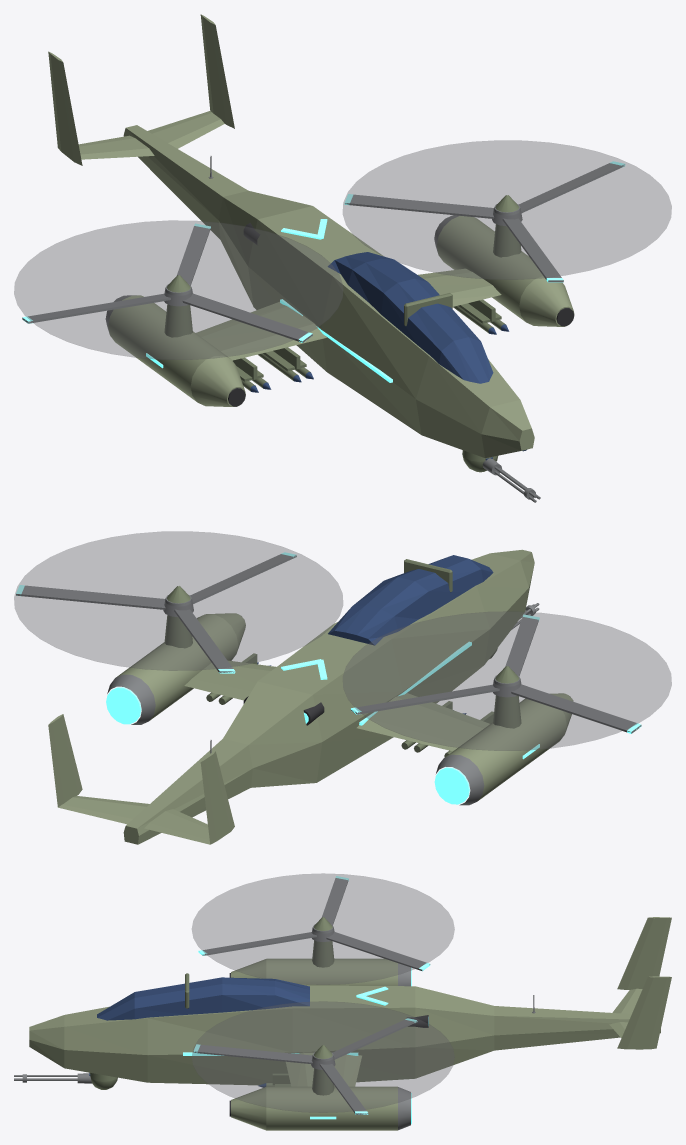
File: gunship_blue.glb
3 views of the same model, one above another, from view 1: azimuth 30°, elevation 25°; view 2: azimuth 150°, elevation 25°; view 3: azimuth 270°, elevation 25° (orthographic). The views are drawn at different scales.
Parts seen in each view (by area): view 1: body, rotor_r, rotor_l; view 2: body, rotor_r, rotor_l; view 3: body, rotor_l, rotor_r, gun.
Boxes of the visible parts, left/top/right/bottom form: body: left=48, top=14, right=574, bottom=458; rotor_r: left=14, top=220, right=342, bottom=359; rotor_l: left=343, top=140, right=671, bottom=282; body: left=48, top=549, right=573, bottom=844; rotor_r: left=343, top=611, right=671, bottom=750; rotor_l: left=14, top=531, right=342, bottom=673; body: left=29, top=917, right=671, bottom=1130; rotor_l: left=192, top=1001, right=454, bottom=1114; rotor_r: left=192, top=873, right=454, bottom=984; gun: left=14, top=1073, right=91, bottom=1083.
Bounding box in the file's own units: 12.9 × 3.56 × 15.
